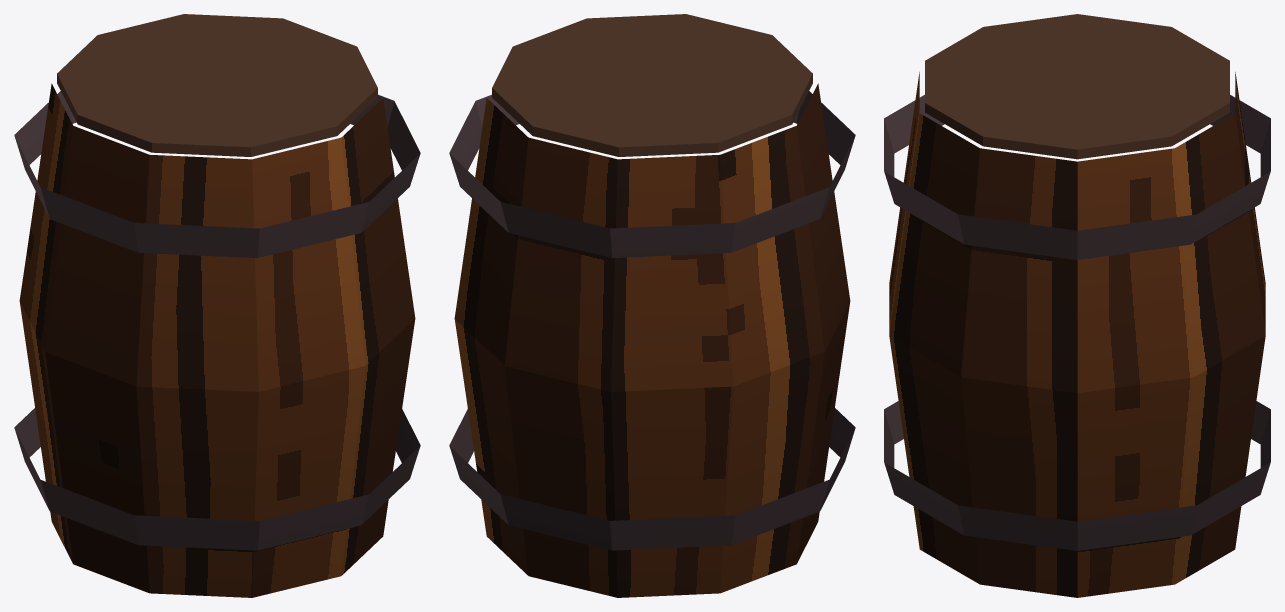
The model's file is barrel.glb.
3 renders of one model, left to right at view 1: azimuth 30°, elevation 25°; view 2: azimuth 150°, elevation 25°; view 3: azimuth 270°, elevation 25°, orthographic.
Visible parts, largest first — view 1: barrel; view 2: barrel; view 3: barrel.
Part boxes in pixels (x1,y1,x2,y2): barrel: (14,14,420,597); barrel: (449,14,855,597); barrel: (884,14,1270,597).
Bounding box in the file's own units: 0.76 × 0.92 × 0.7228.
2 materials, 1 textured.
